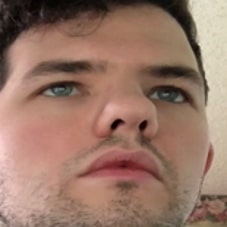awake: (16, 43, 207, 227)
